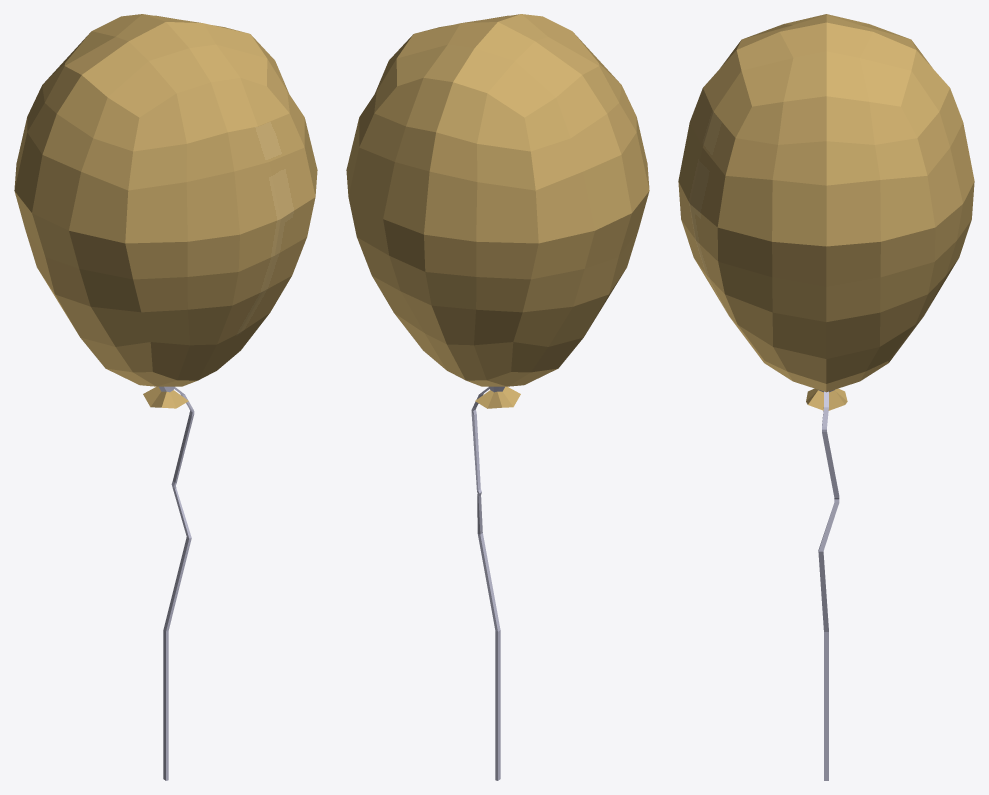
Rendered from Balloon3.fbx.
The picture shows the model from 3 angles, left to right: view 1: azimuth 30°, elevation 25°; view 2: azimuth 150°, elevation 25°; view 3: azimuth 270°, elevation 25°; orthographic projection.
Visible parts, largest first — view 1: ลูกโป่ง3; view 2: ลูกโป่ง3; view 3: ลูกโป่ง3.
Boxes of the visible parts, <box> form: ลูกโป่ง3: <box>14,14,317,780</box>; ลูกโป่ง3: <box>346,14,649,780</box>; ลูกโป่ง3: <box>678,14,974,780</box>.
Bounding box in the file's own units: 145 × 392 × 139.
1 material, 1 textured.
